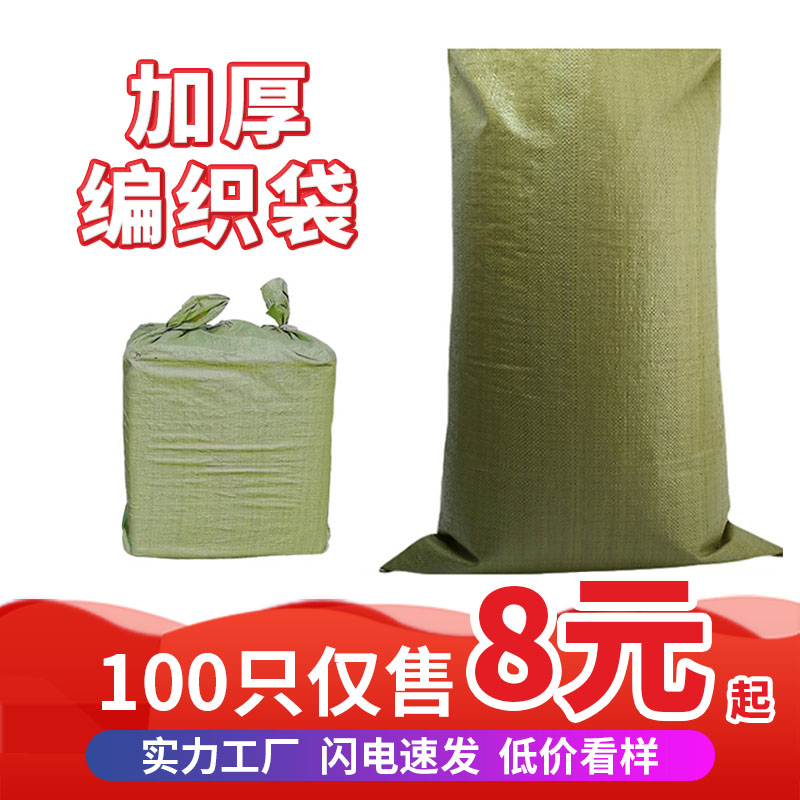塑料袋: (381, 50, 782, 574), (122, 278, 336, 559)
